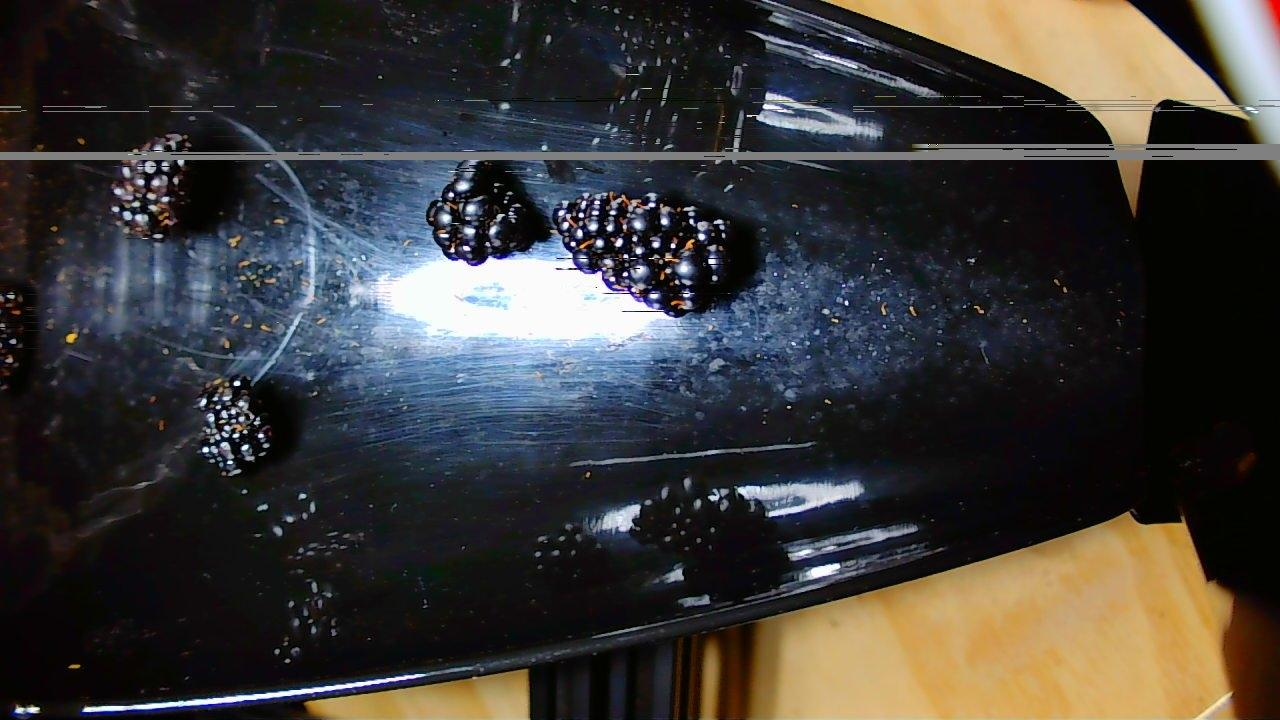berry: (556, 188, 738, 308), (430, 162, 538, 260), (188, 375, 277, 476), (110, 143, 190, 240)
